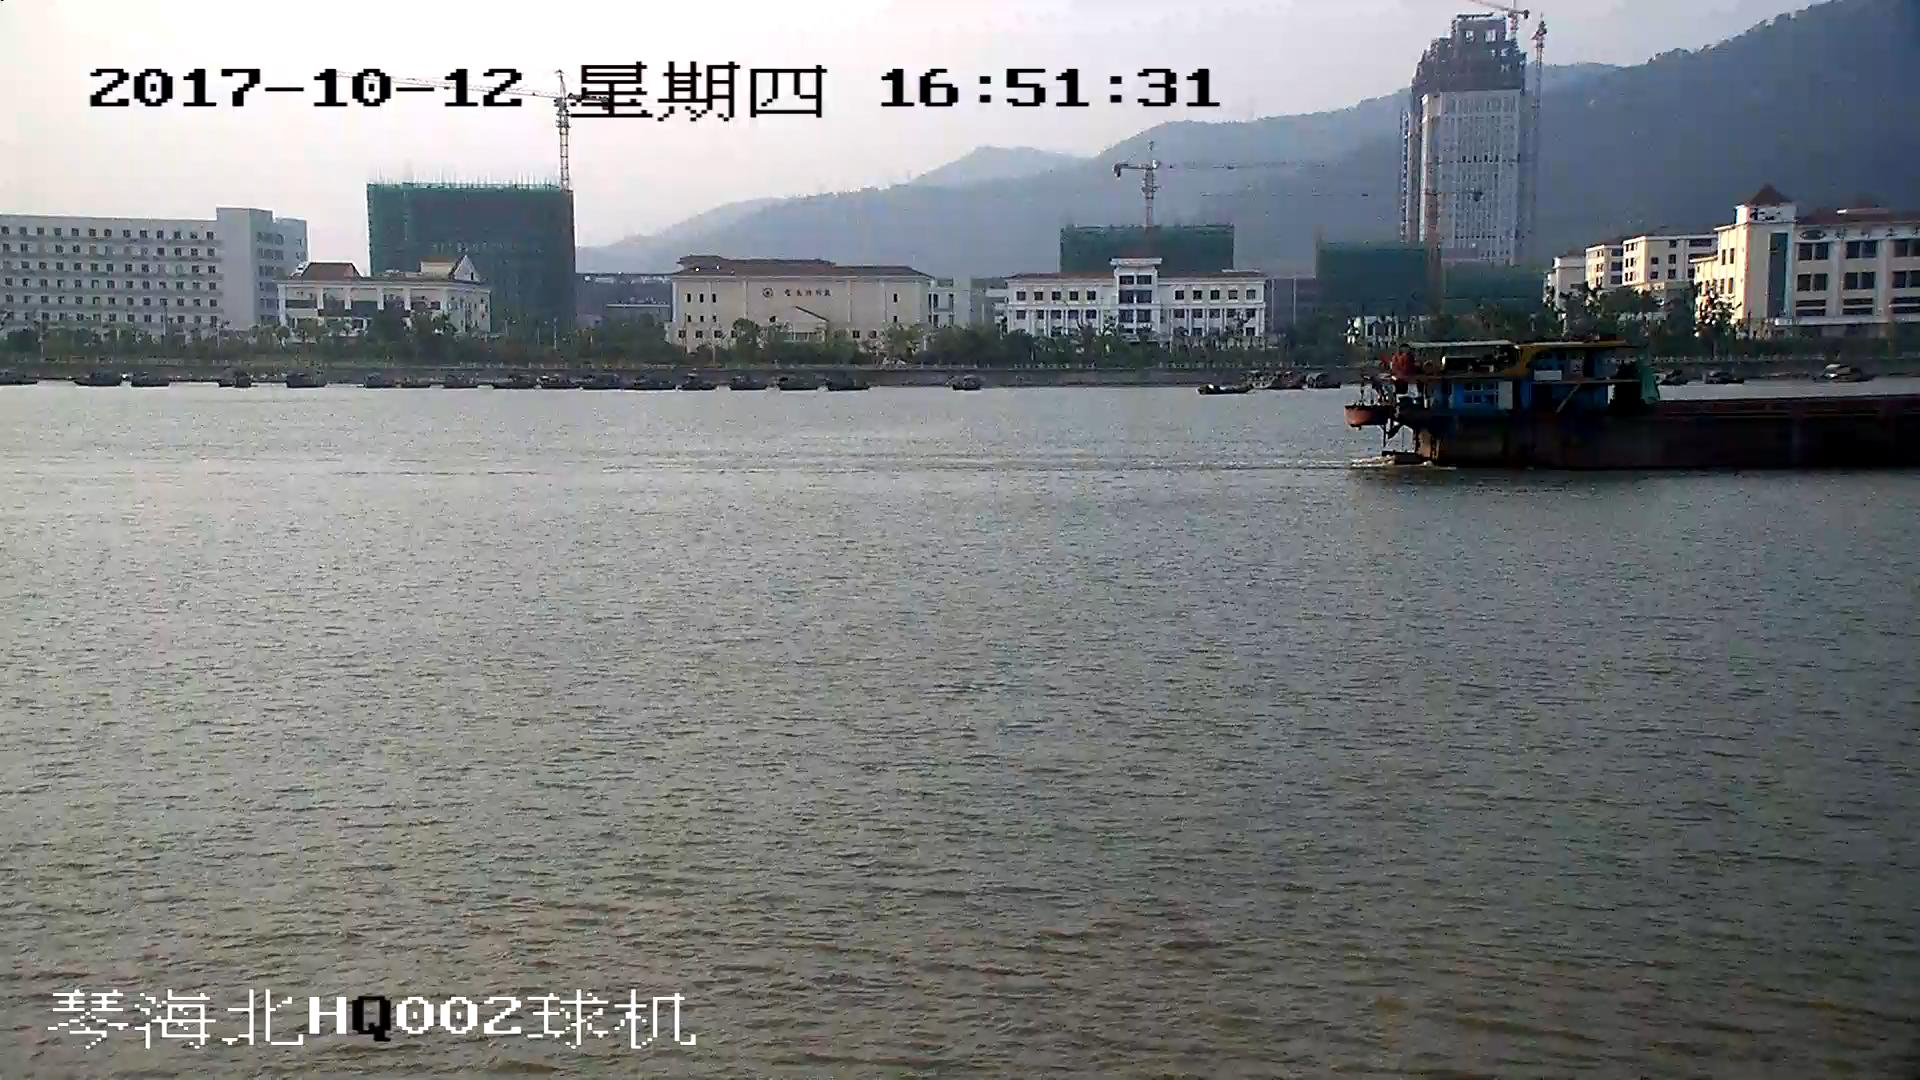bulk cargo carrier: (1344, 342, 1920, 470)
